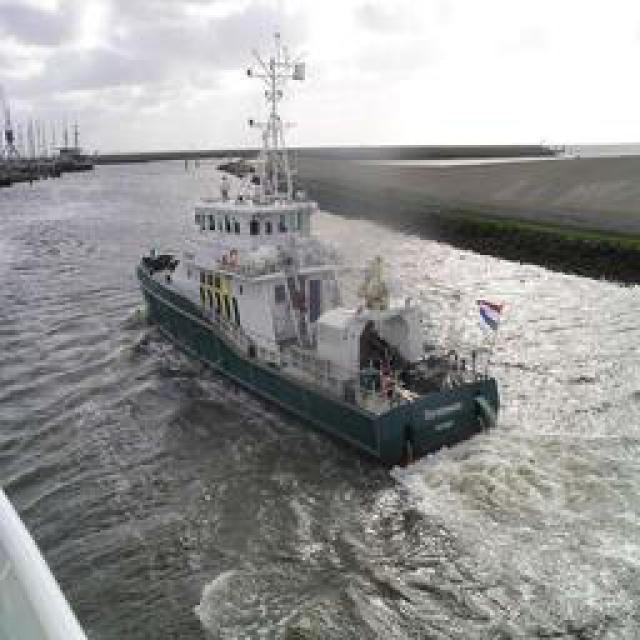Ship: (140, 65, 538, 475)
